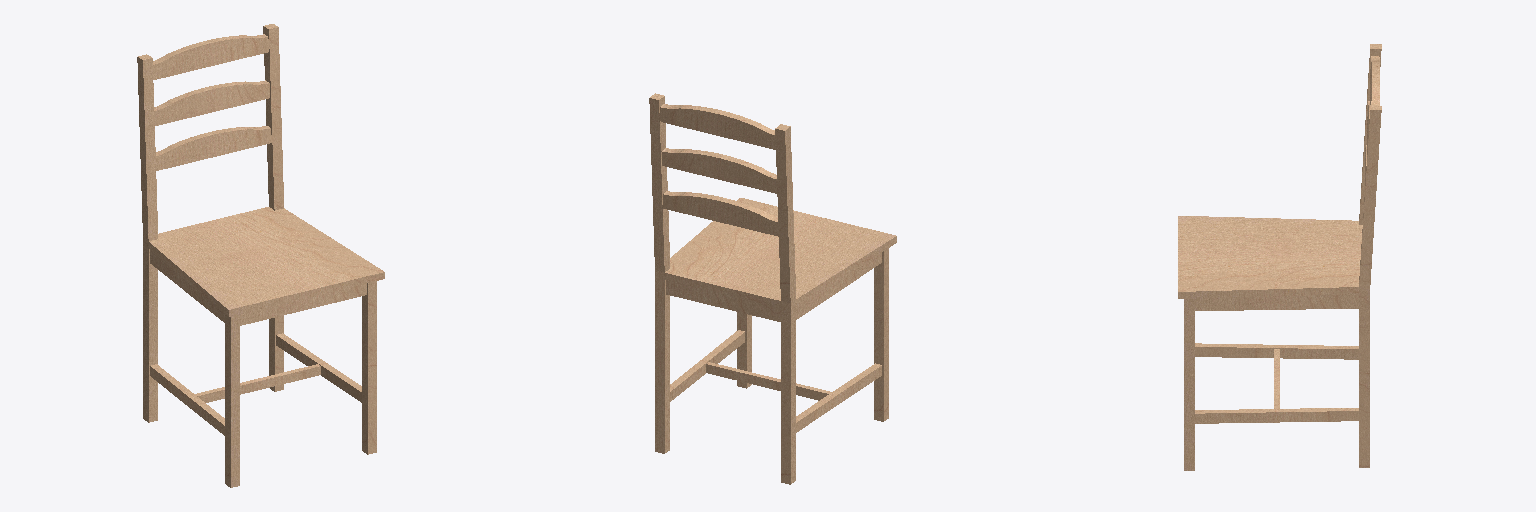
The picture shows the model from 3 angles: view 1: azimuth 30°, elevation 25°; view 2: azimuth 150°, elevation 25°; view 3: azimuth 270°, elevation 25°; orthographic projection.
Parts seen in each view (by area): view 1: Mesh1 Jokkmokk_Chair_1_1 Model; view 2: Mesh1 Jokkmokk_Chair_1_1 Model; view 3: Mesh1 Jokkmokk_Chair_1_1 Model.
Boxes of the visible parts, <box> form: Mesh1 Jokkmokk_Chair_1_1 Model: <box>137,24,384,487</box>; Mesh1 Jokkmokk_Chair_1_1 Model: <box>649,93,896,484</box>; Mesh1 Jokkmokk_Chair_1_1 Model: <box>1178,44,1381,470</box>.
Size of the model in its own units: 16 by 35 by 18.
1 materials, 1 textured.